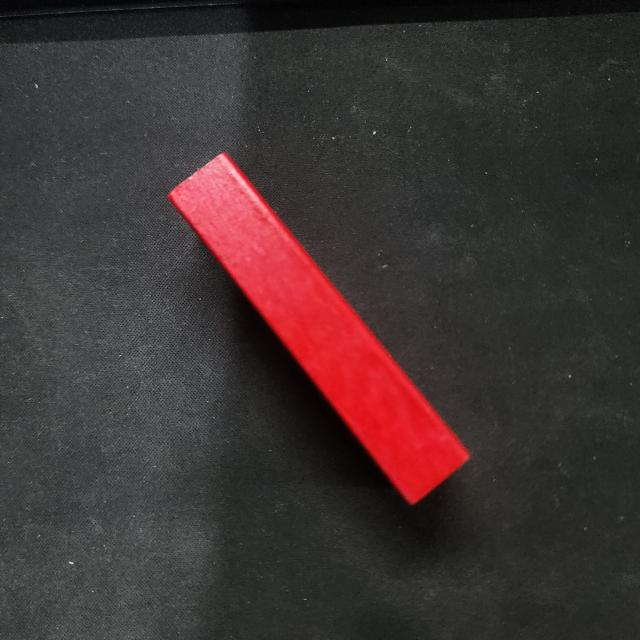red: (162, 151, 473, 507)
